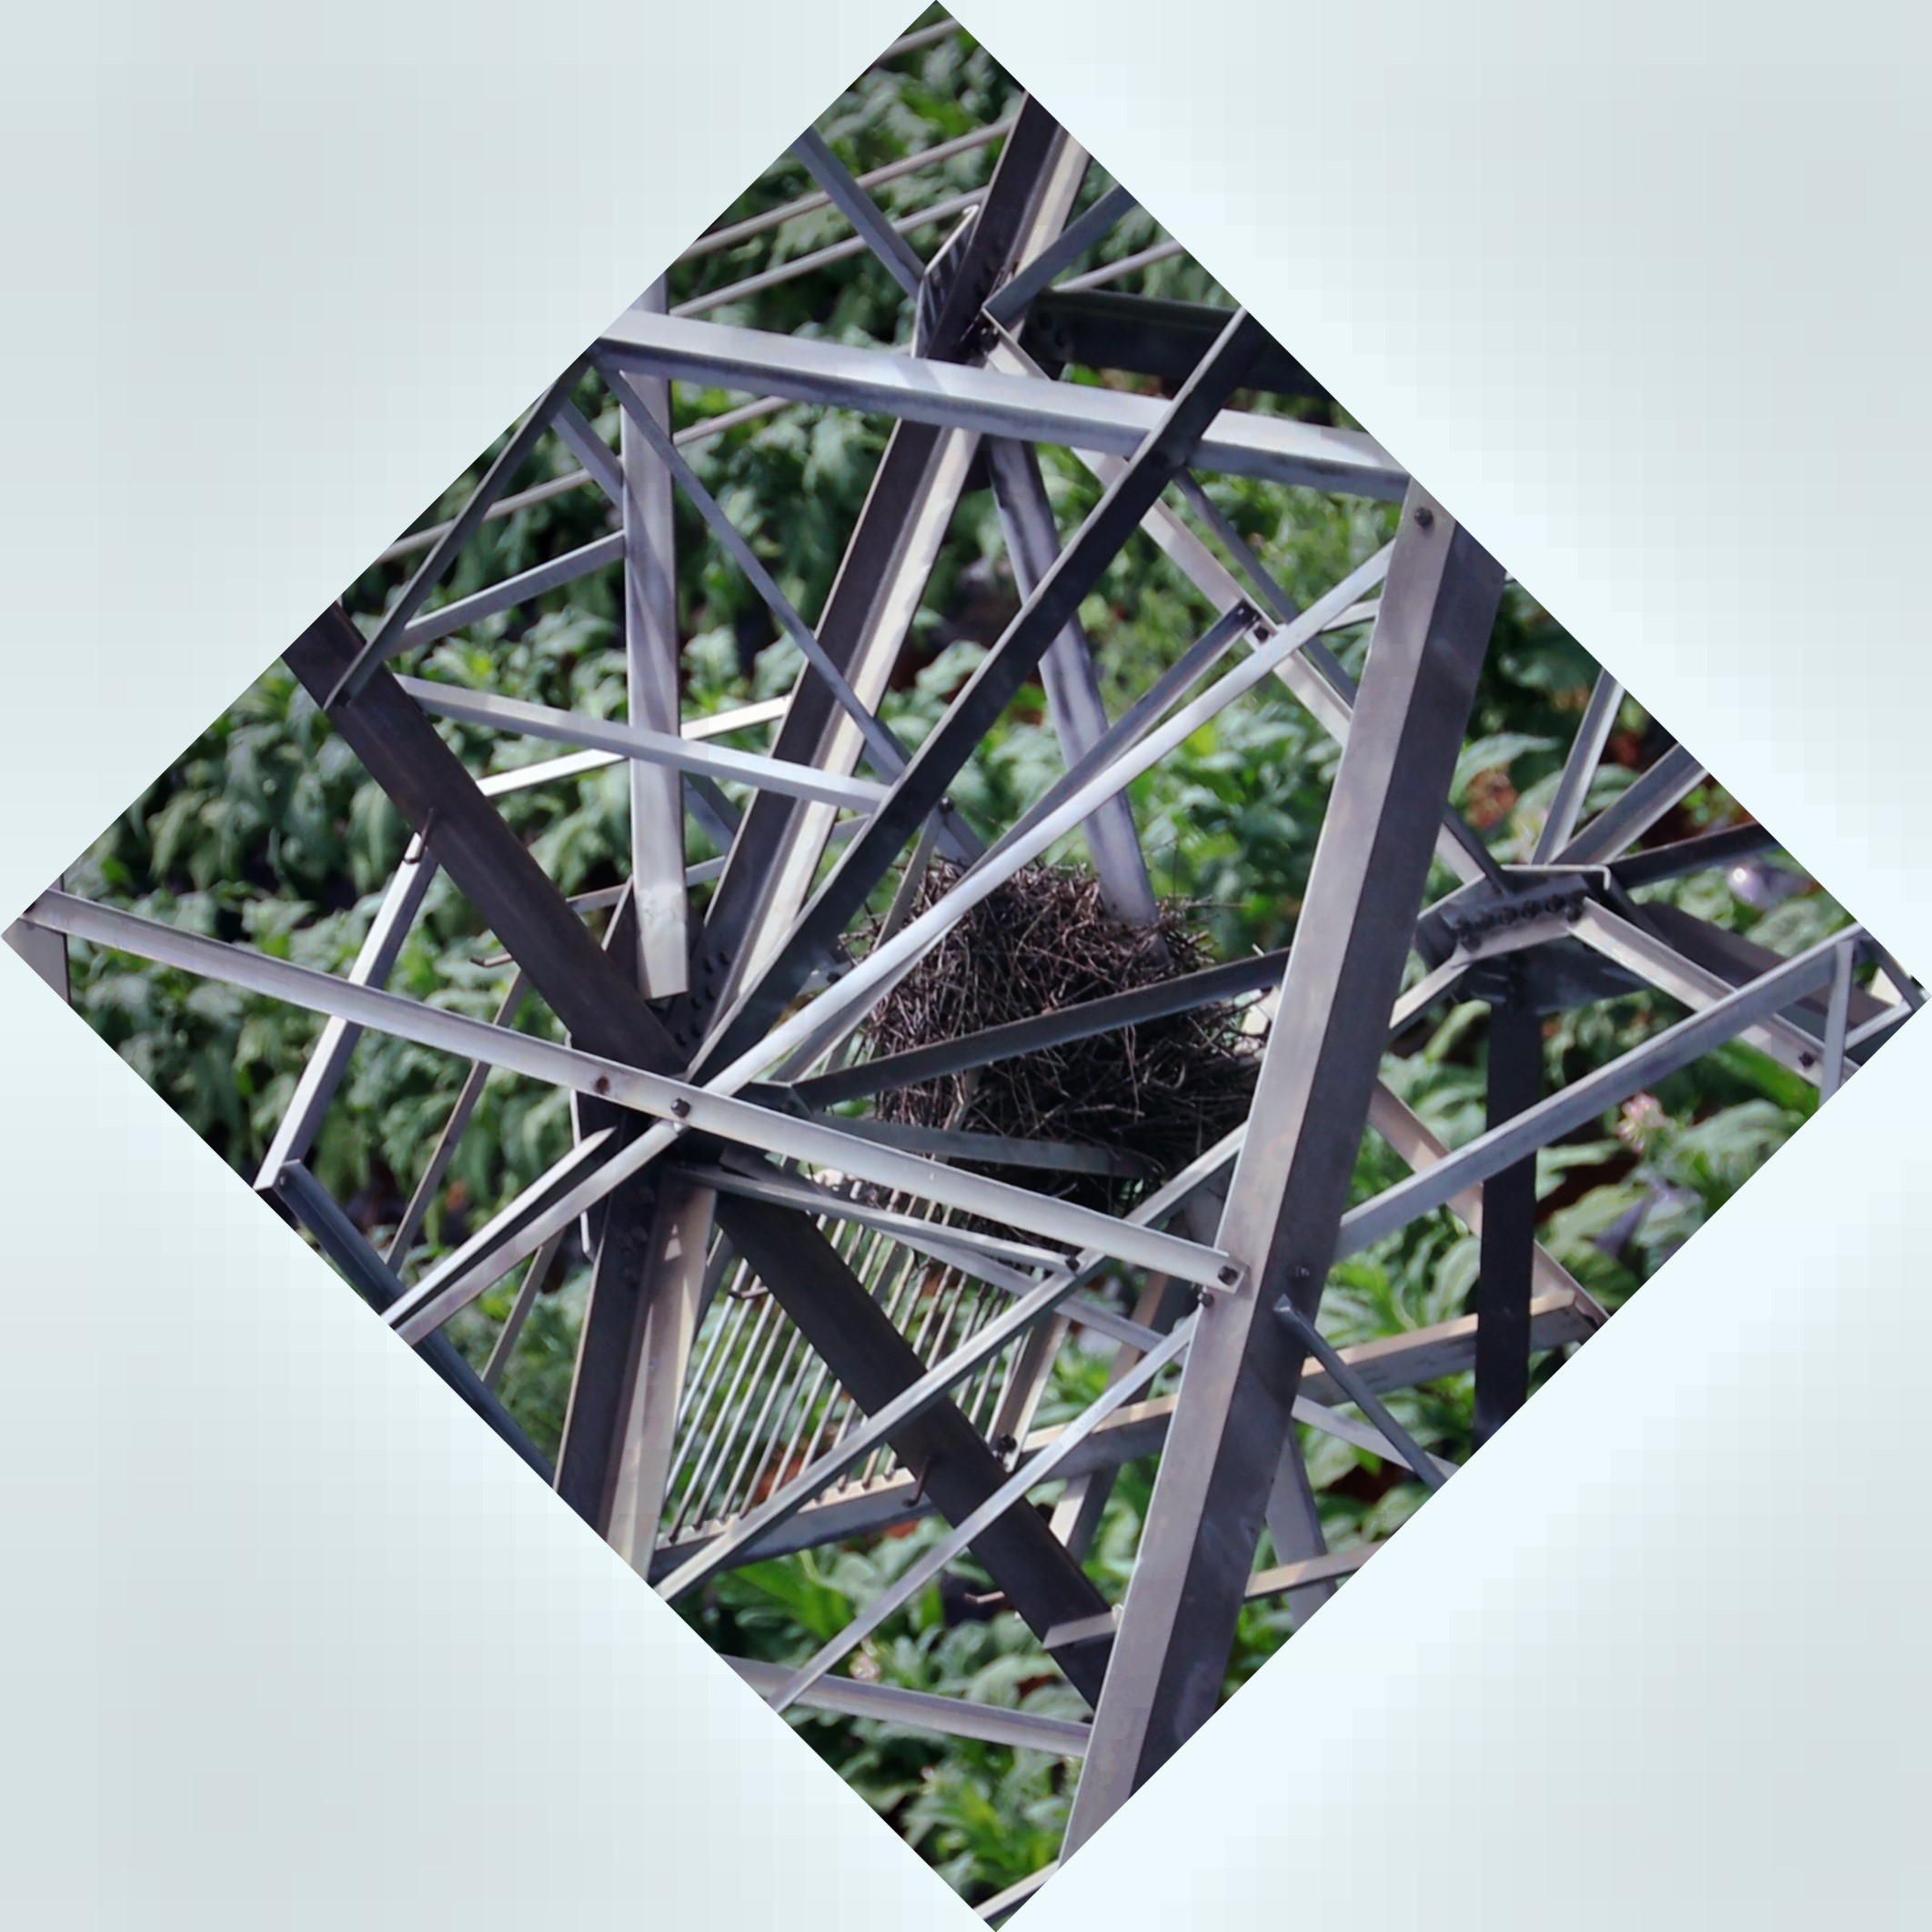niaowo: (844, 844, 1270, 1270)
